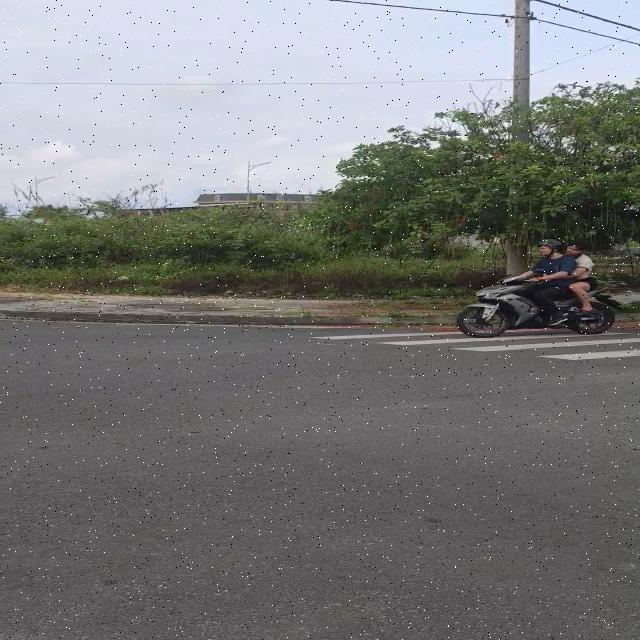helmet: (530, 239, 564, 263)
